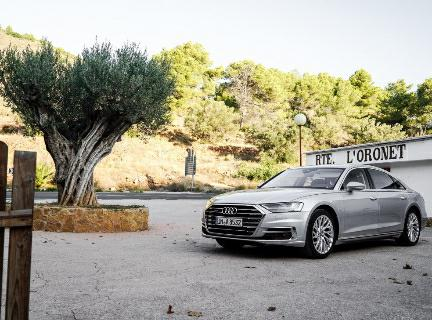奥迪-A8: (195, 160, 432, 265)
